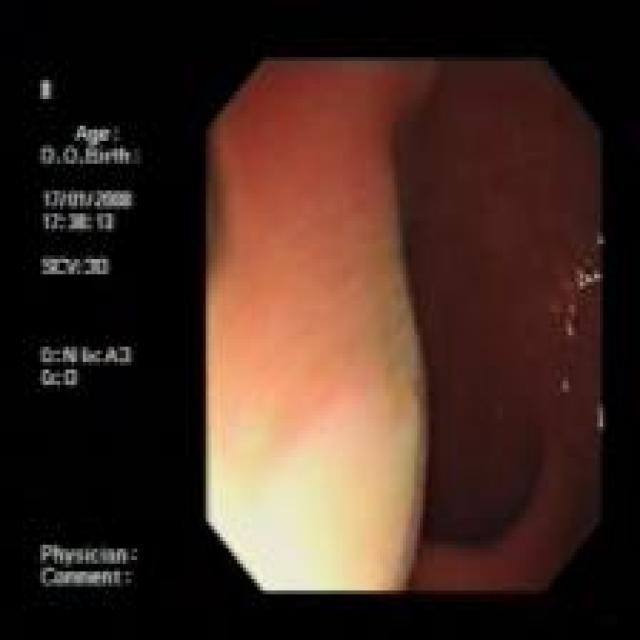color misalignment: (31, 68, 161, 597)
contrast: (401, 61, 601, 589)
saturation: (209, 417, 387, 590)
specularity: (570, 258, 604, 290), (563, 311, 578, 341), (558, 374, 573, 397)
